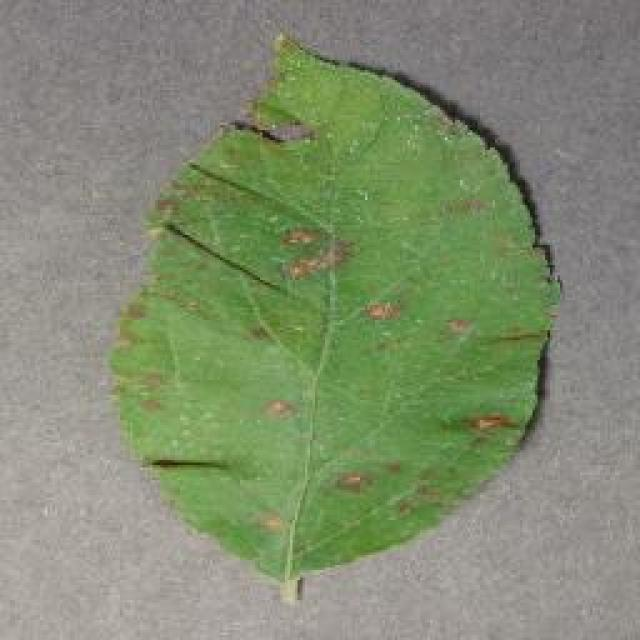apple scab disease: (105, 30, 563, 602)
